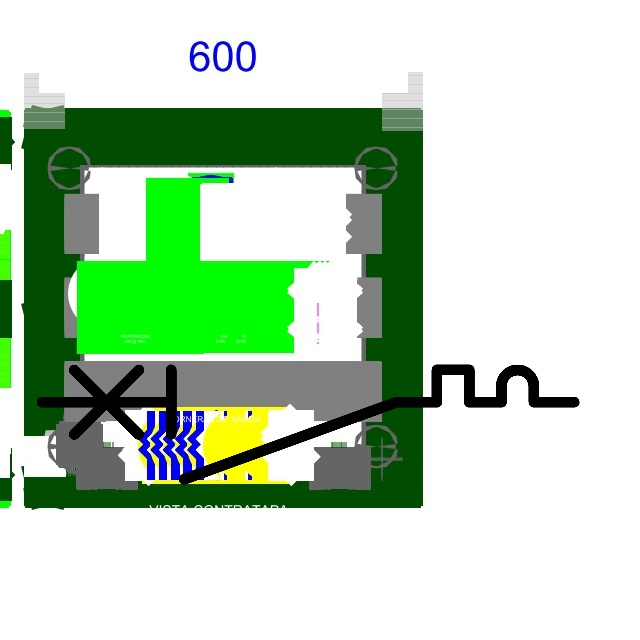interruptor_termomagnetico: (28, 356, 588, 493)
